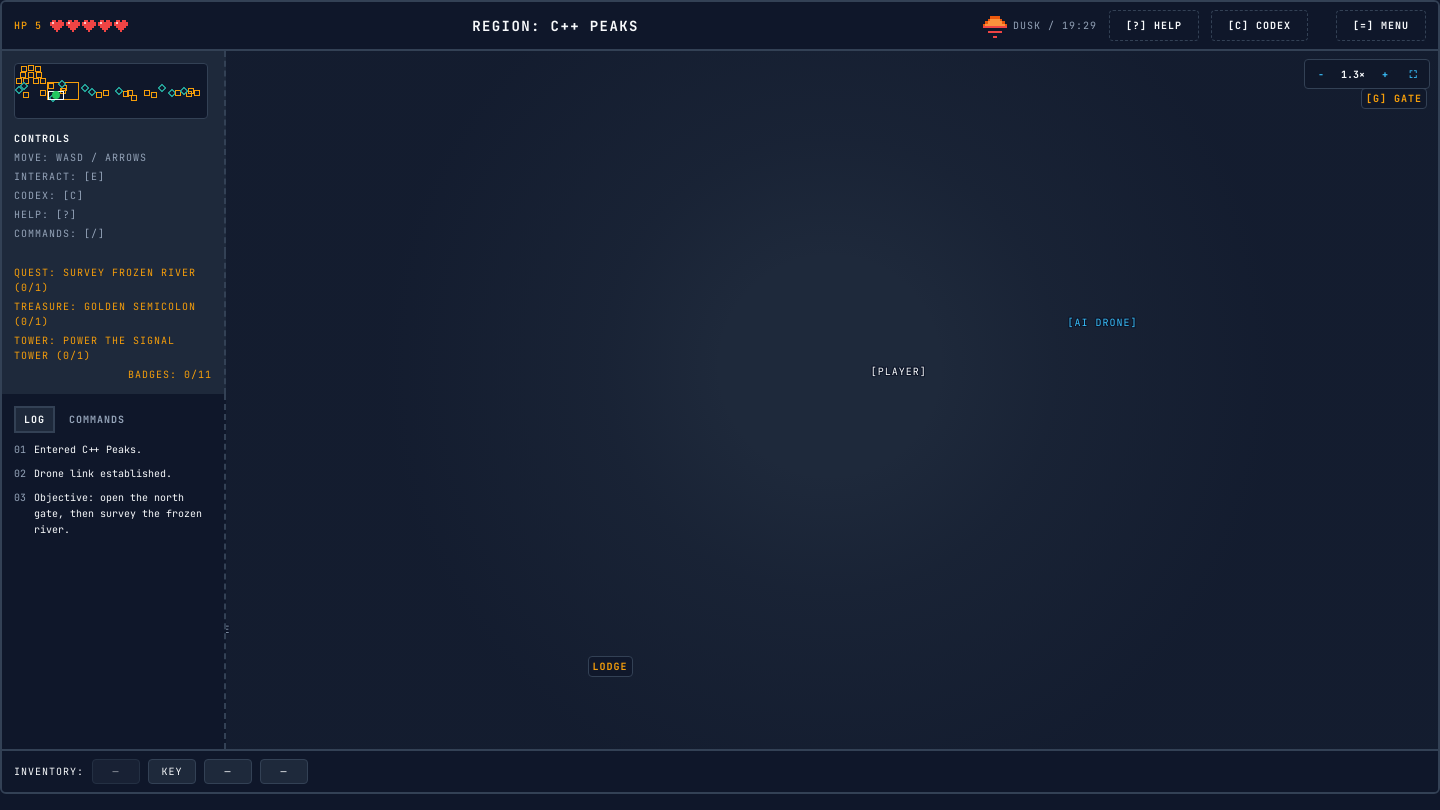
Test case: Overworld terminal puzzle › a wrong answer keeps the terminal open with an error
Click the button "[G] Gate" at (1385, 54), box [1330,22,1439,86]
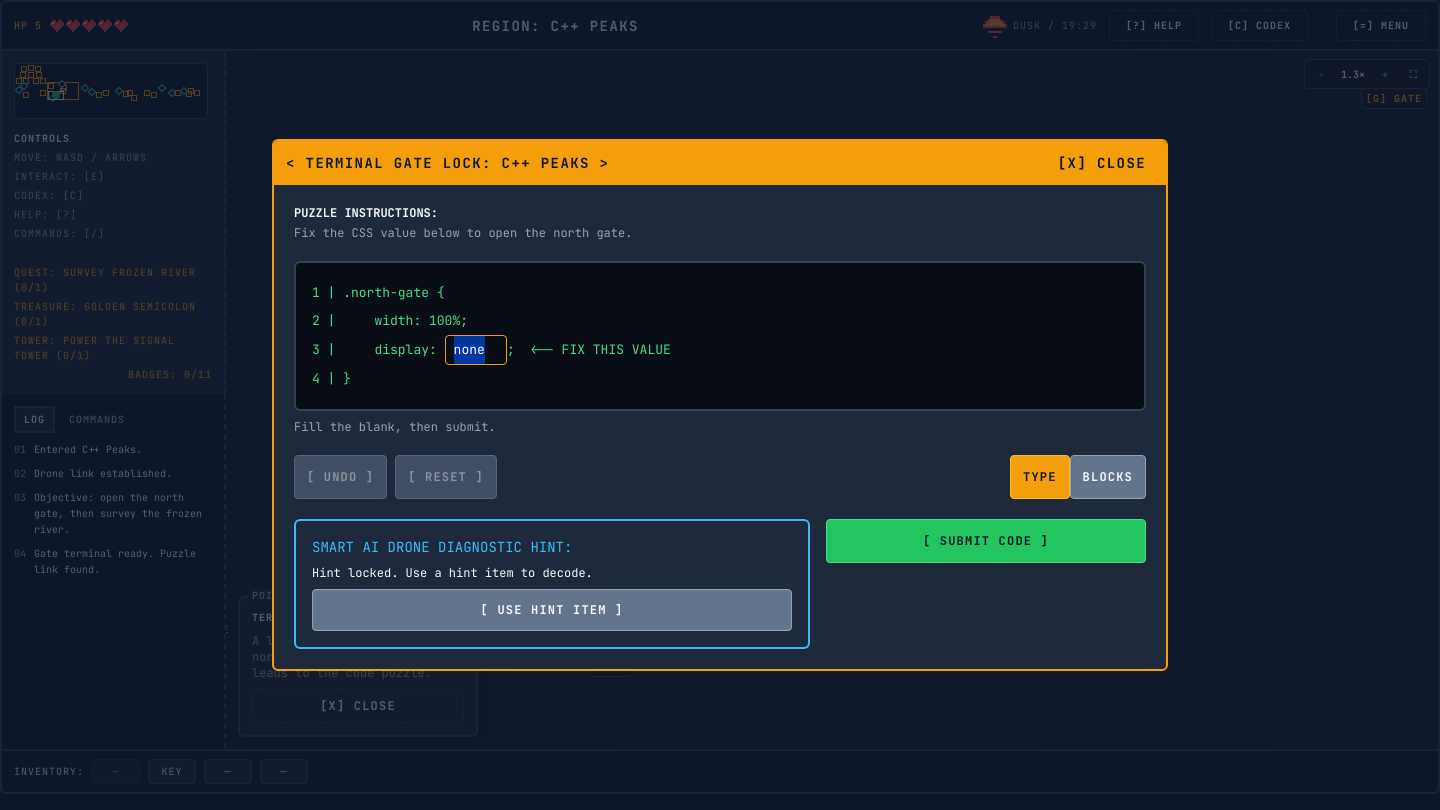
Replace the text in the field named "display value" with "flex" at (476, 350), box [445,335,507,365]
Then press Enter
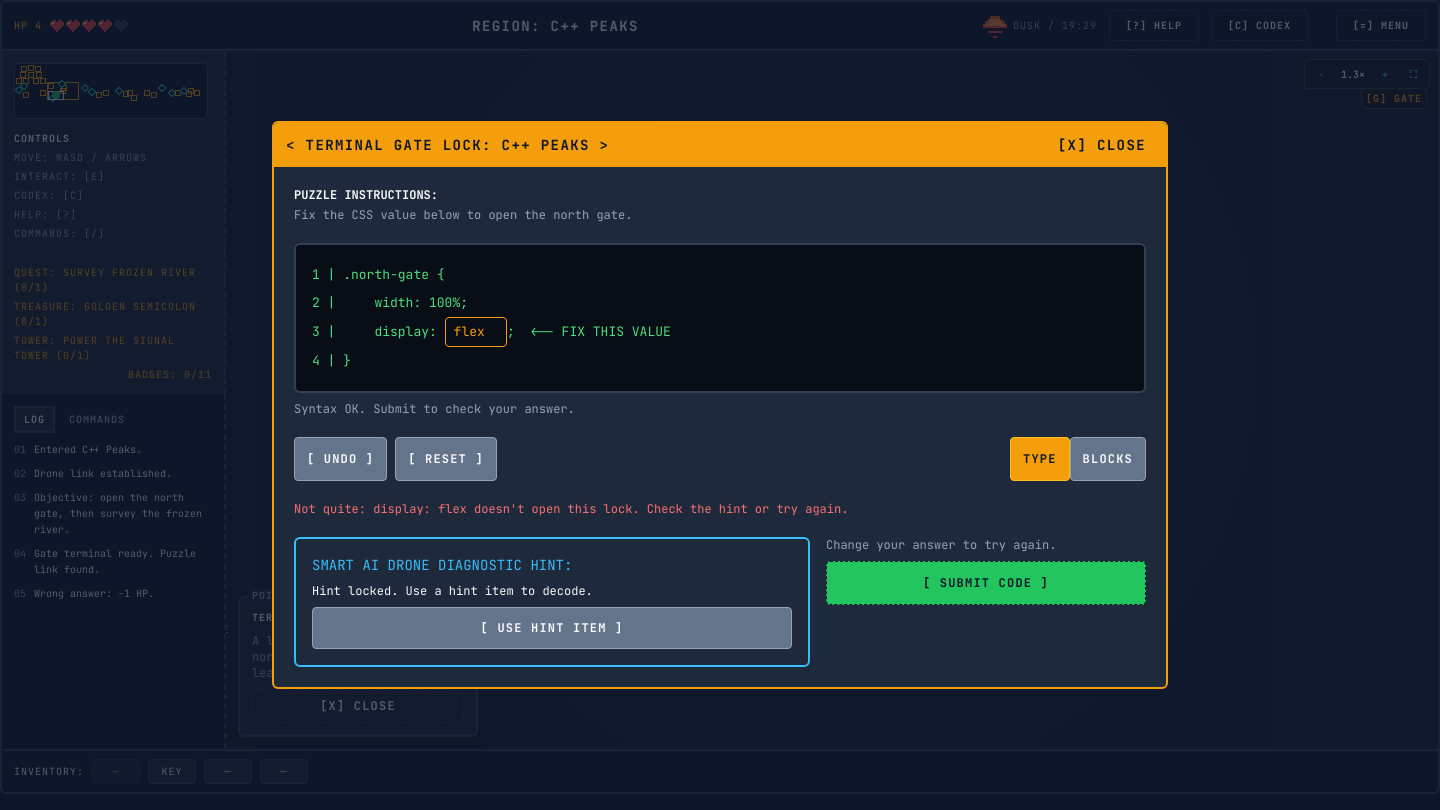
Check: the dialog is shown, box [272,121,1168,689]
Check: the message reads "Not quite: display: flex doesn't open this lock. Check the hint or try again.", box [294,501,848,517]
